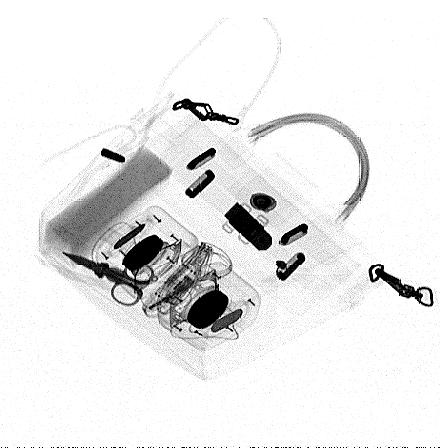Scissors: (62, 250, 158, 308)
